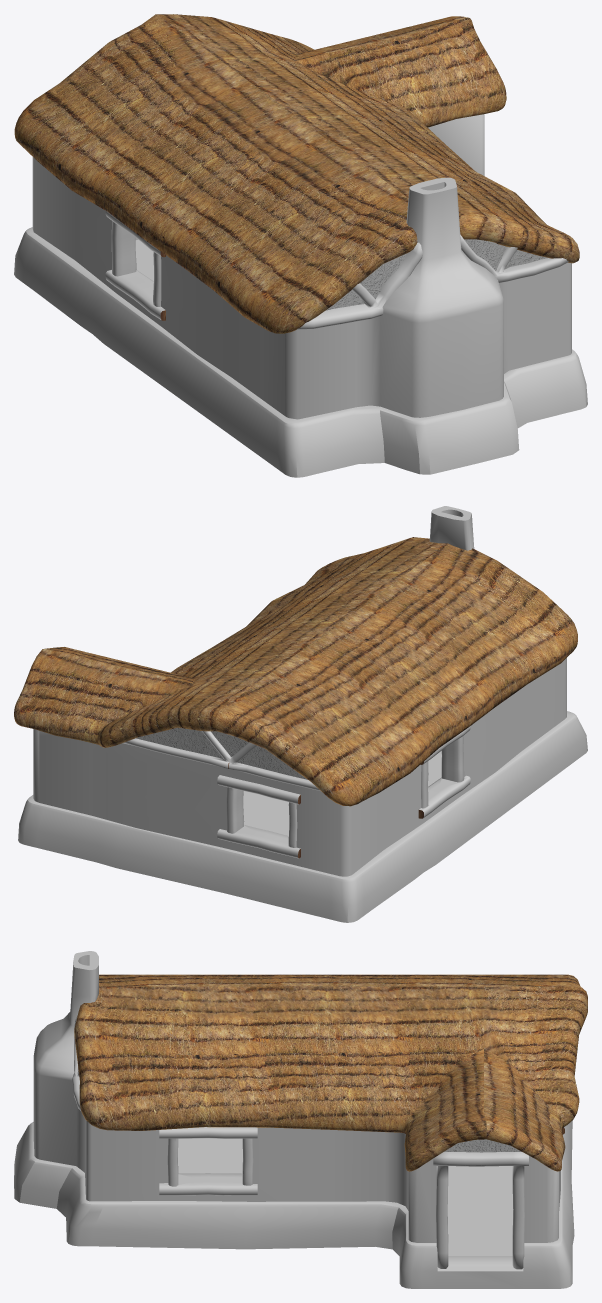
File: House1_Objects.fbx
The picture shows the model from 3 angles, top to bottom: view 1: azimuth 30°, elevation 25°; view 2: azimuth 150°, elevation 25°; view 3: azimuth 270°, elevation 25°; orthographic projection. The views are drawn at different scales.
Visible parts, largest first — view 1: roof1, wall, base, WoodSupport2, window.001, MortarWall2, MortarWall1; view 2: roof1, wall, base, window, window.001, WoodSupport; view 3: roof1, base, wall, window.002, DoorFrame.
Boxes of the visible parts, x1=… form: roof1: x1=14, y1=14, x2=579, y2=333; wall: x1=32, y1=114, x2=571, y2=419; base: x1=14, y1=227, x2=587, y2=477; WoodSupport2: x1=296, y1=234, x2=568, y2=329; window.001: x1=105, y1=211, x2=165, y2=320; MortarWall2: x1=326, y1=253, x2=406, y2=310; MortarWall1: x1=464, y1=239, x2=547, y2=271; roof1: x1=14, y1=537, x2=577, y2=806; wall: x1=33, y1=506, x2=566, y2=876; base: x1=18, y1=711, x2=587, y2=922; window: x1=217, y1=775, x2=300, y2=858; window.001: x1=418, y1=726, x2=470, y2=818; WoodSupport: x1=123, y1=731, x2=320, y2=790; roof1: x1=74, y1=974, x2=587, y2=1171; base: x1=14, y1=1121, x2=574, y2=1288; wall: x1=33, y1=951, x2=560, y2=1242; window.002: x1=159, y1=1127, x2=257, y2=1195; DoorFrame: x1=433, y1=1152, x2=528, y2=1269.
Size of the model in its own units: 1183 by 665 by 1562.
